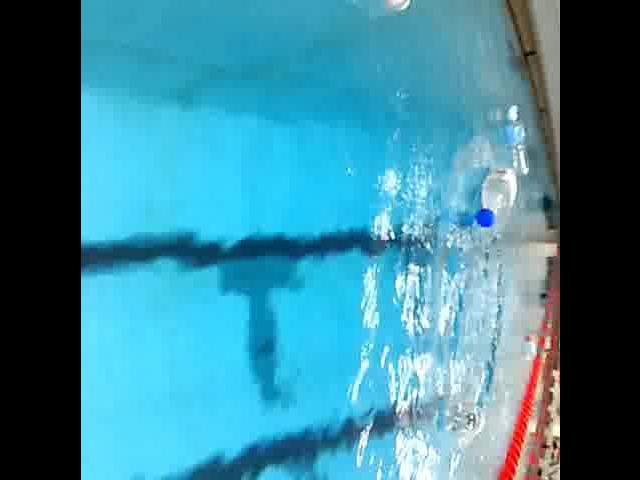Bottle: (468, 162, 520, 238), (295, 0, 416, 24), (518, 330, 538, 366)
